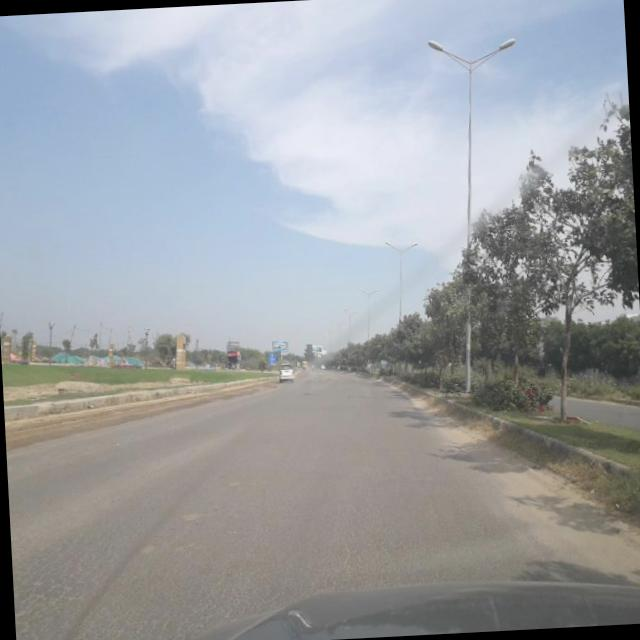crack: (202, 492, 559, 597), (8, 483, 203, 640)
